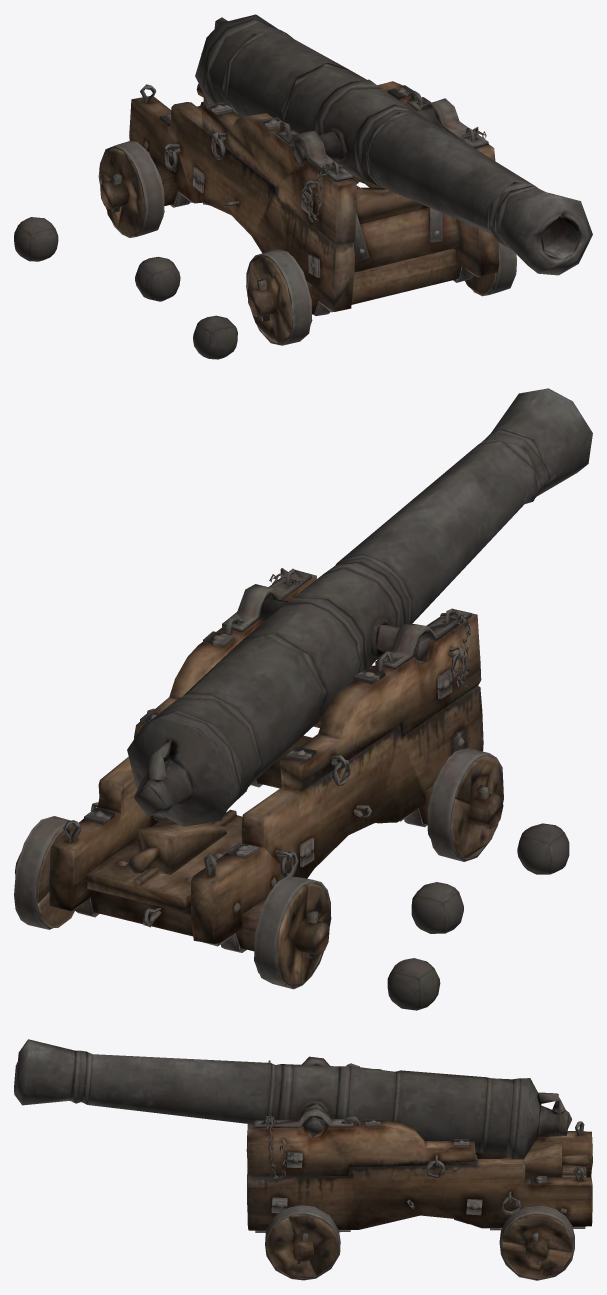
File: cannon_01.glb
The picture shows the model from 3 angles, top to bottom: view 1: azimuth 30°, elevation 25°; view 2: azimuth 150°, elevation 25°; view 3: azimuth 270°, elevation 25°; orthographic projection. The views are drawn at different scales.
Parts seen in each view (by area): view 1: cannon_01_frame, cannon_01_barrel, cannon_01_wheel_01, cannon_01_wheel_02, cannon_01_ball_03, cannon_01_ball_02, cannon_01_ball_01, cannon_01_wheel_03; view 2: cannon_01_frame, cannon_01_barrel, cannon_01_wheel_01, cannon_01_wheel_02, cannon_01_wheel_04, cannon_01_pusherblock, cannon_01_ball_02, cannon_01_ball_03, cannon_01_ball_01; view 3: cannon_01_barrel, cannon_01_frame, cannon_01_wheel_03, cannon_01_wheel_04, cannon_01_pusherblock.
Boxes of the visible parts, box(x1,y1,x2,y2) form: cannon_01_frame: box(100, 81, 499, 321); cannon_01_barrel: box(195, 14, 592, 275); cannon_01_wheel_01: box(246, 249, 312, 345); cannon_01_wheel_02: box(98, 141, 164, 237); cannon_01_ball_03: box(14, 217, 58, 261); cannon_01_ball_02: box(135, 256, 180, 301); cannon_01_ball_01: box(193, 315, 237, 359); cannon_01_wheel_03: box(465, 241, 516, 296); cannon_01_frame: box(15, 568, 503, 959); cannon_01_barrel: box(127, 388, 592, 826); cannon_01_wheel_01: box(427, 748, 503, 861); cannon_01_wheel_02: box(254, 876, 331, 989); cannon_01_wheel_04: box(14, 816, 74, 929); cannon_01_pusherblock: box(128, 822, 226, 874); cannon_01_ball_02: box(411, 882, 463, 933); cannon_01_ball_03: box(387, 958, 440, 1010); cannon_01_ball_01: box(517, 823, 569, 874); cannon_01_barrel: box(14, 1039, 571, 1159); cannon_01_frame: box(246, 1056, 592, 1264); cannon_01_wheel_03: box(265, 1205, 340, 1280); cannon_01_wheel_04: box(499, 1205, 574, 1280); cannon_01_pusherblock: box(501, 1141, 588, 1177).
Bounding box in the file's own units: 1.27 × 0.8588 × 2.3.
Materials: 1 (1 with a texture image).
